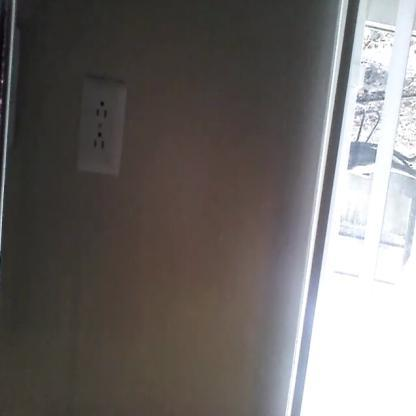OUTLET: (76, 81, 126, 173)
